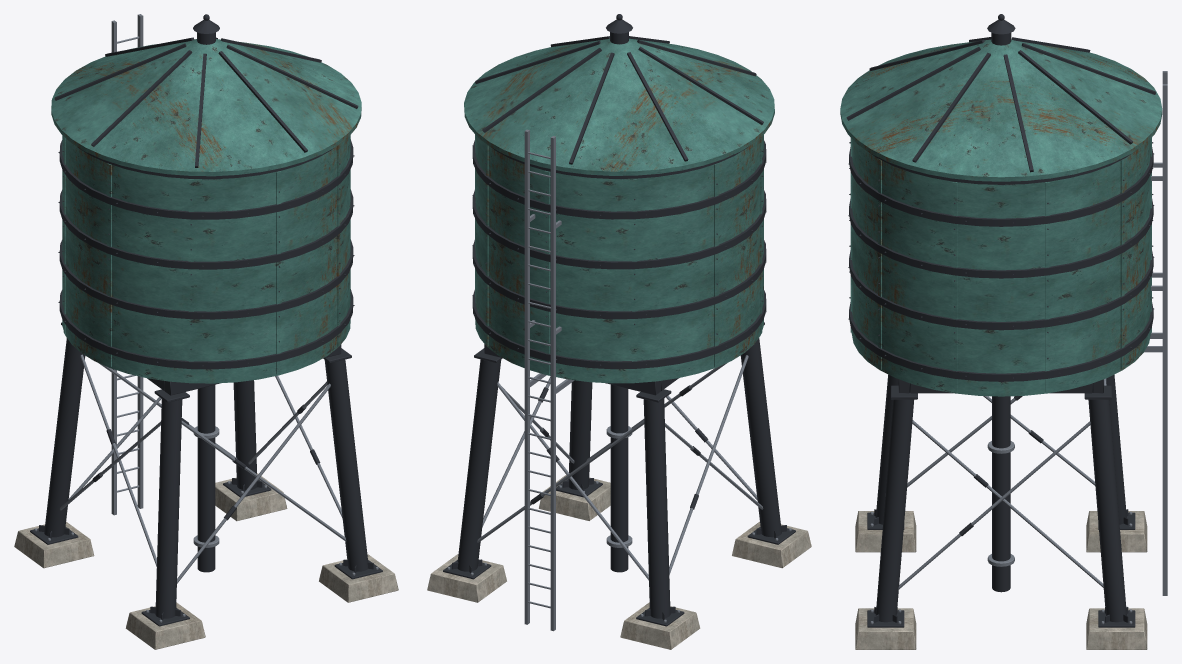
File: destructible_watertower_intact.glb
3 views of the same model, side by side, from view 1: azimuth 30°, elevation 25°; view 2: azimuth 150°, elevation 25°; view 3: azimuth 270°, elevation 25° (orthographic). The views are drawn at different scales.
Visible parts, largest first — view 1: WaterTower_Body; view 2: WaterTower_Body; view 3: WaterTower_Body.
Part boxes in pixels (bbox=[...]): WaterTower_Body: bbox=[14, 14, 398, 649]; WaterTower_Body: bbox=[427, 14, 811, 649]; WaterTower_Body: bbox=[840, 14, 1167, 649].
Bounding box in the file's own units: 4.52 × 8.89 × 4.6.
Materials: 5 (2 with a texture image).
